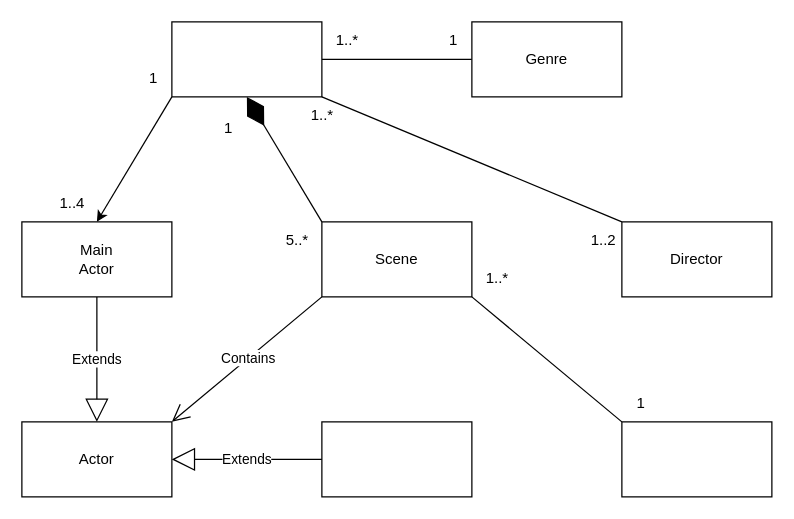
The diagram is 794 pixels wide and 519 high, and some of its shapes have lost their labels. The centre of each missing label's shape, as x and y in pixels:
Film: (246,59)
Set: (696,459)
Supporting Actor: (396,459)
